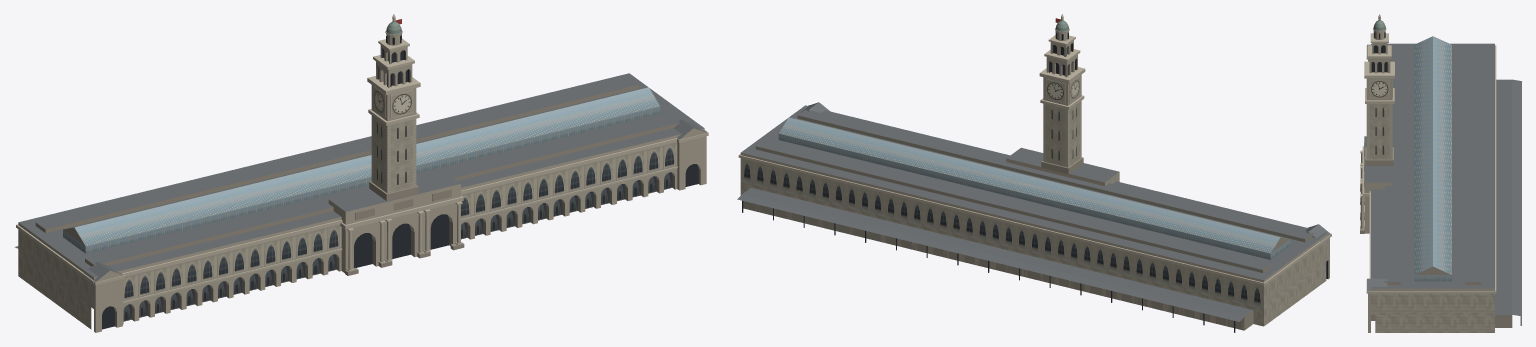
File: ferry_building.glb
3 views of the same model, side by side, from view 1: azimuth 30°, elevation 25°; view 2: azimuth 150°, elevation 25°; view 3: azimuth 270°, elevation 25° (orthographic). The views are drawn at different scales.
Parts seen in each view (by area): view 1: ferry_building; view 2: ferry_building; view 3: ferry_building.
Part boxes in pixels (left/top/right/bottom): ferry_building: left=14, top=14, right=708, bottom=332; ferry_building: left=737, top=14, right=1331, bottom=332; ferry_building: left=1360, top=14, right=1521, bottom=332.
Bounding box in the file's own units: 202 × 75.01 × 55.99.
2 materials, 2 textured.
